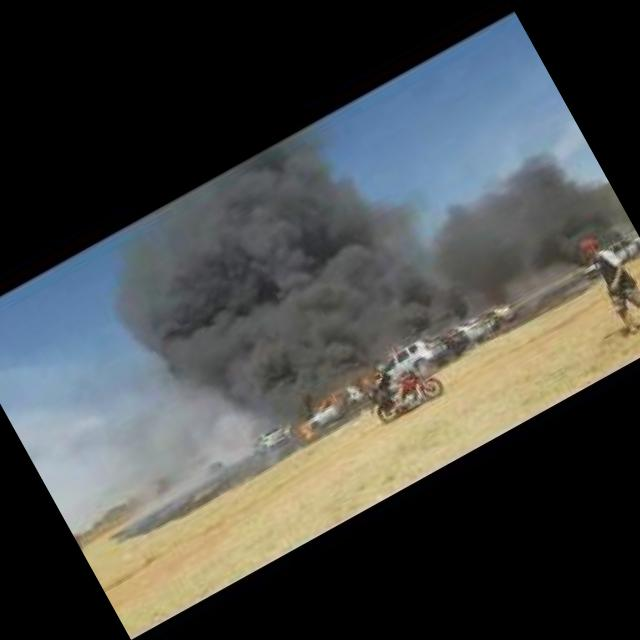fire: (295, 417, 316, 441)
smoke: (92, 128, 442, 462)
